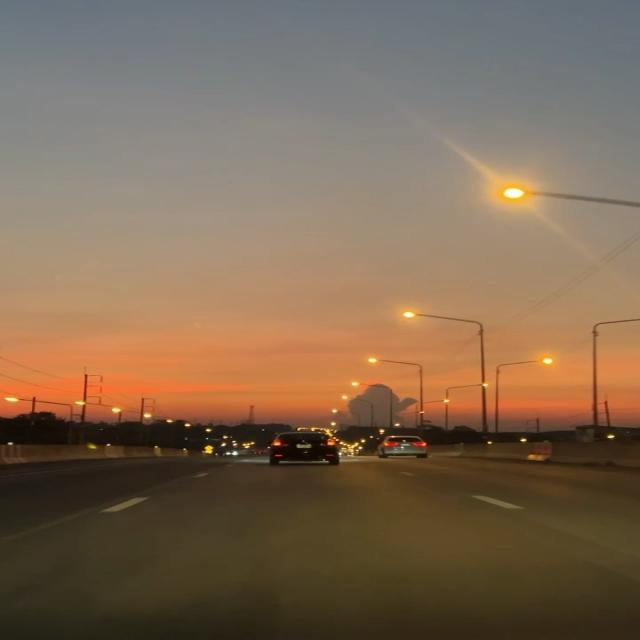Poth-hole: (190, 472, 556, 625)
